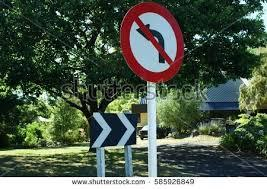no_left_turn: (117, 1, 185, 81)
